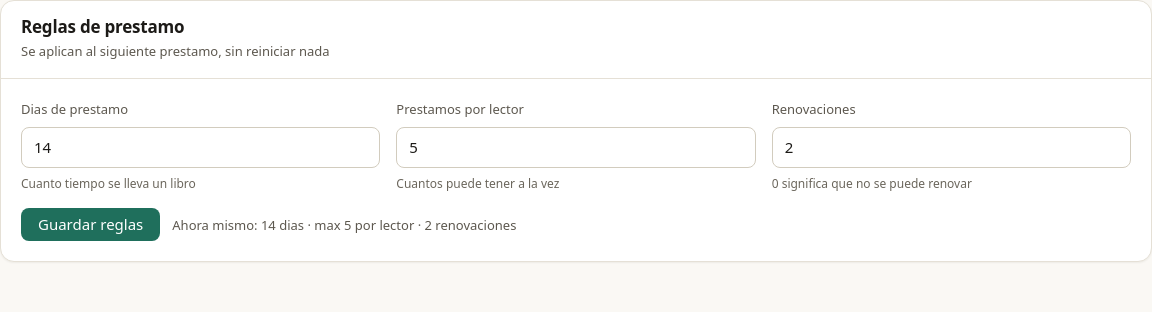
Test: ajustes de prestamos › sends the three numbers together and confirms
The image size is (1152, 312).
Replace the text in the number field labelled "Dias de prestamo" with "21" at (201, 147), box [21,127,380,168]
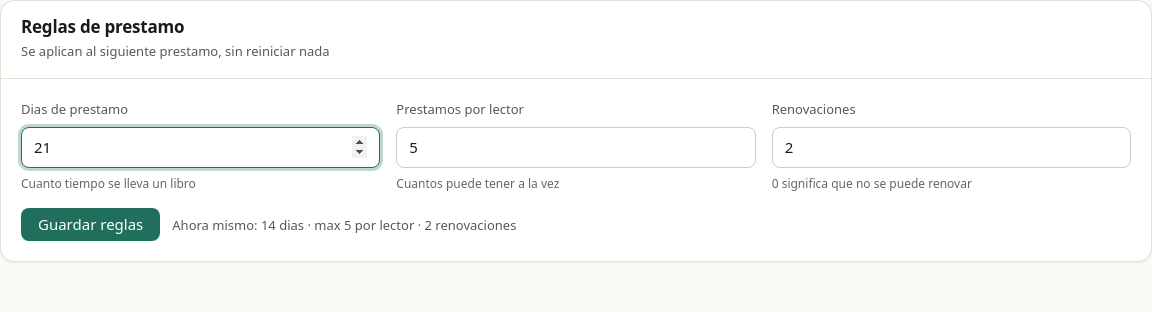
Replace the text in the number field labelled "Prestamos por lector" with "8" at (576, 147), box [396,127,756,168]
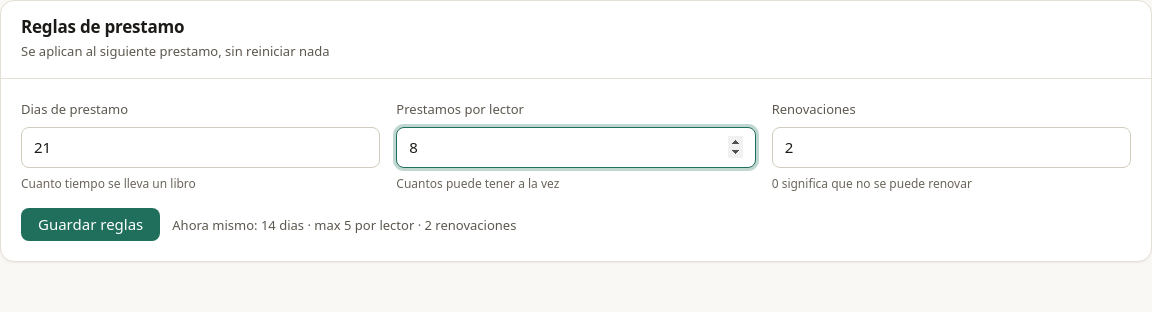
Click the button "Guardar reglas".
click(91, 225)  # box [21,208,160,241]
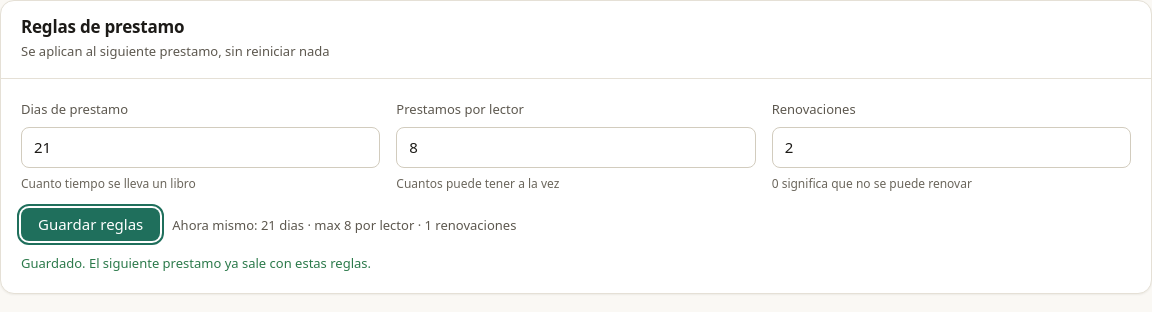
Expected: the text "Guardado. El siguiente prestamo ya sale con estas reglas." is shown, [21,254,371,272]
